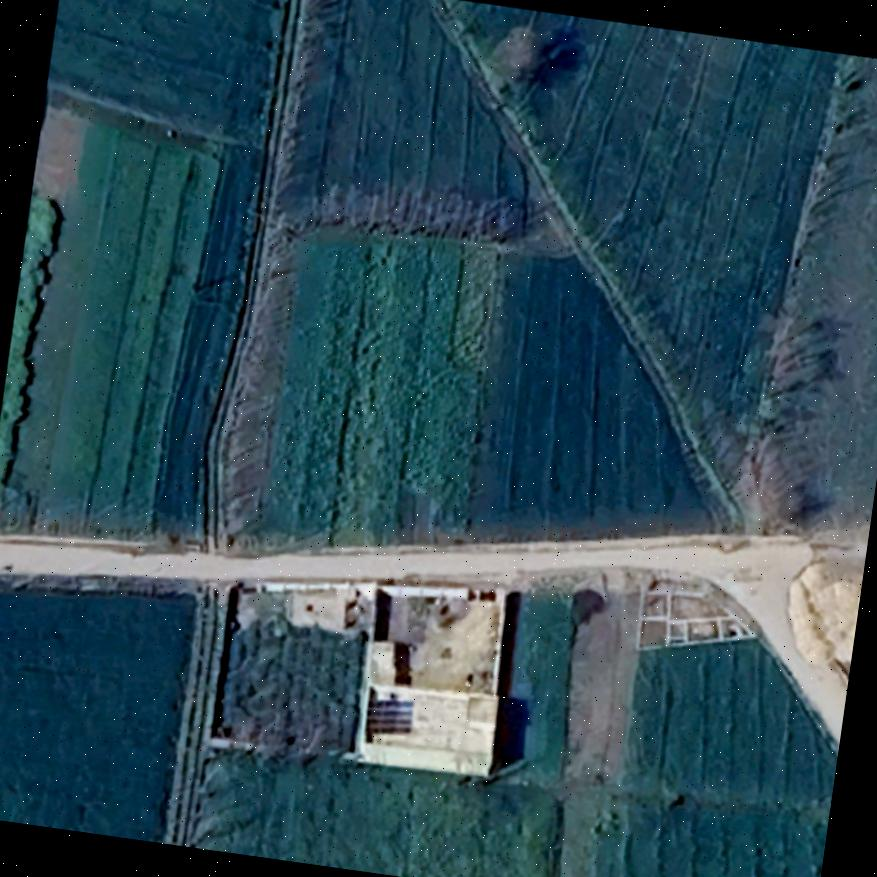Solarpanel: (358, 684, 420, 744)
